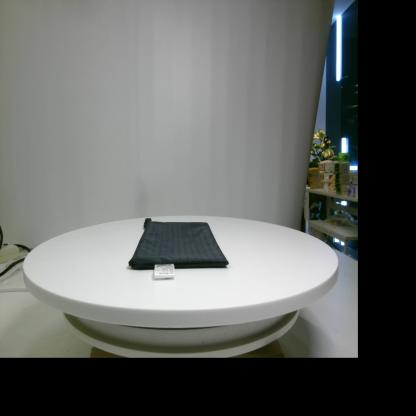Stationery: (128, 218, 229, 279)
